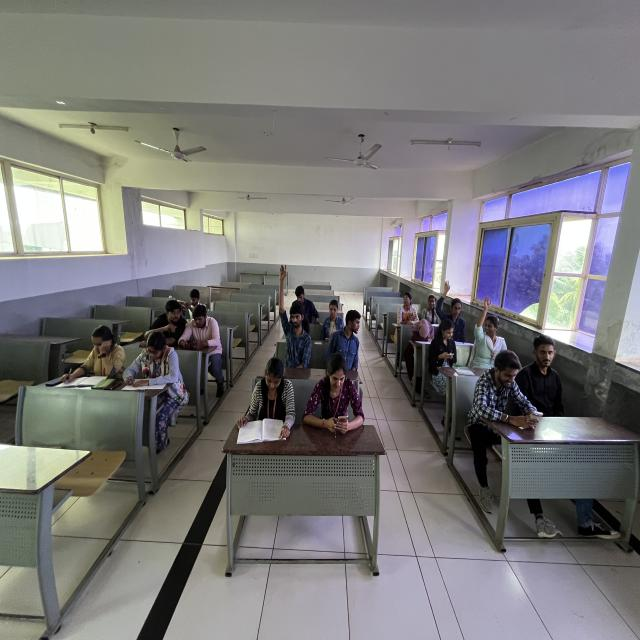Hand Rising: (270, 257, 316, 366), (470, 291, 502, 367), (431, 275, 461, 332)
Reading: (234, 354, 299, 445)
Using Phone: (473, 345, 544, 444), (299, 351, 373, 438), (428, 316, 462, 377)
